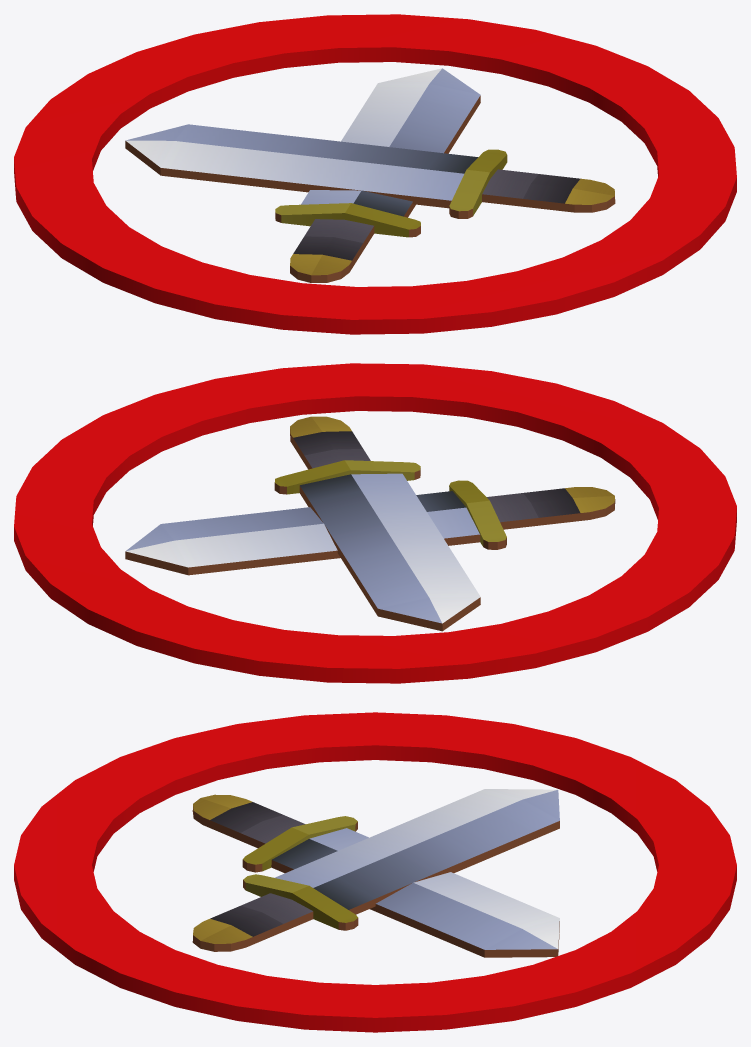
Rendered from Start Point.fbx.
3 views of the same model, one above another, from view 1: azimuth 30°, elevation 25°; view 2: azimuth 150°, elevation 25°; view 3: azimuth 270°, elevation 25° (orthographic).
Parts seen in each view (by area): view 1: Circle; view 2: Circle; view 3: Circle.
Boxes of the visible parts, <box> form: Circle: <box>14,14,736,334</box>; Circle: <box>14,363,736,683</box>; Circle: <box>14,712,736,1032</box>.
Size of the model in its own units: 510 by 17.33 by 510.
